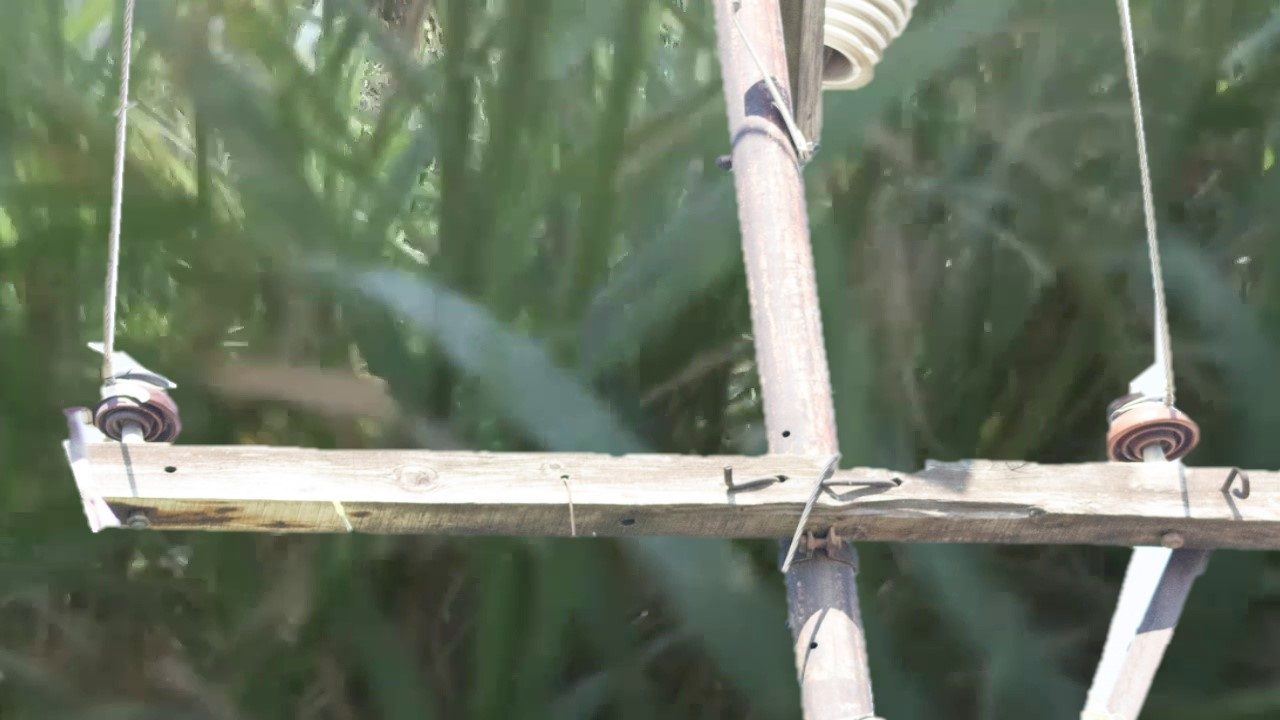defect_pin: (86, 368, 186, 448)
insulator_pin: (1100, 383, 1207, 462)
